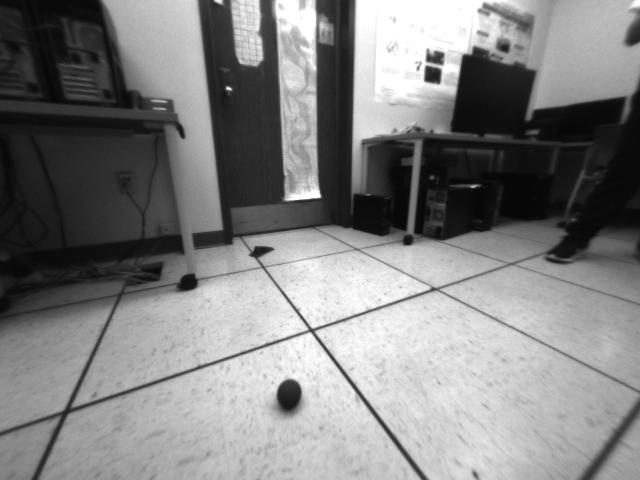dogtoy: (269, 372, 308, 413)
